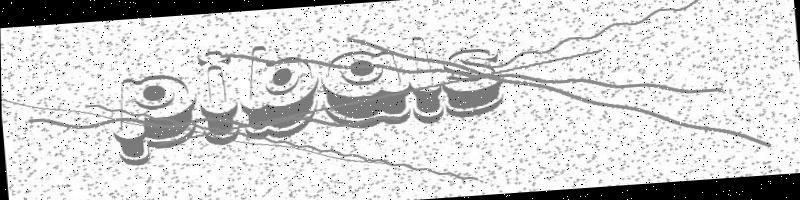a: (318, 44, 414, 132)
b: (234, 38, 326, 145)
i: (190, 42, 244, 153)
l: (403, 33, 450, 128)
p: (106, 67, 202, 173)
s: (437, 35, 513, 120)
